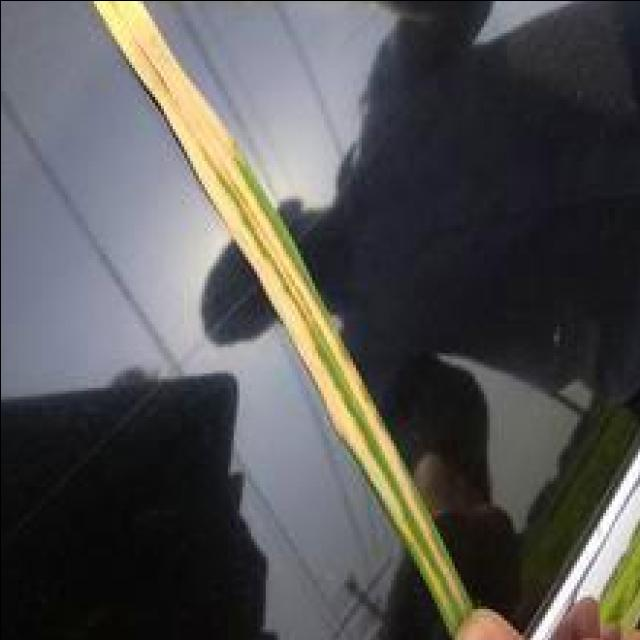Bacterial_Leaf_Blight: (130, 0, 462, 611)
